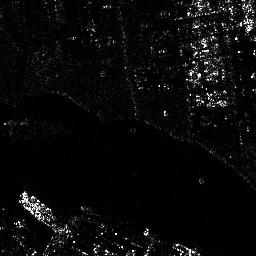ship: (18, 190, 57, 222)
